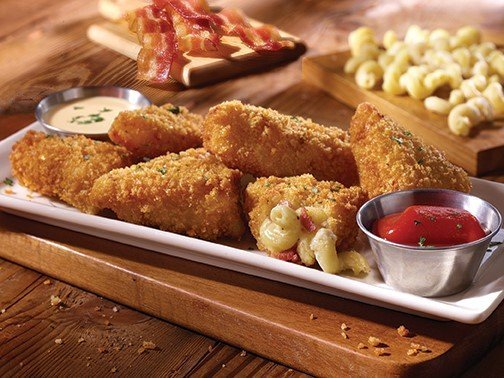sushi: (356, 188, 503, 298)
